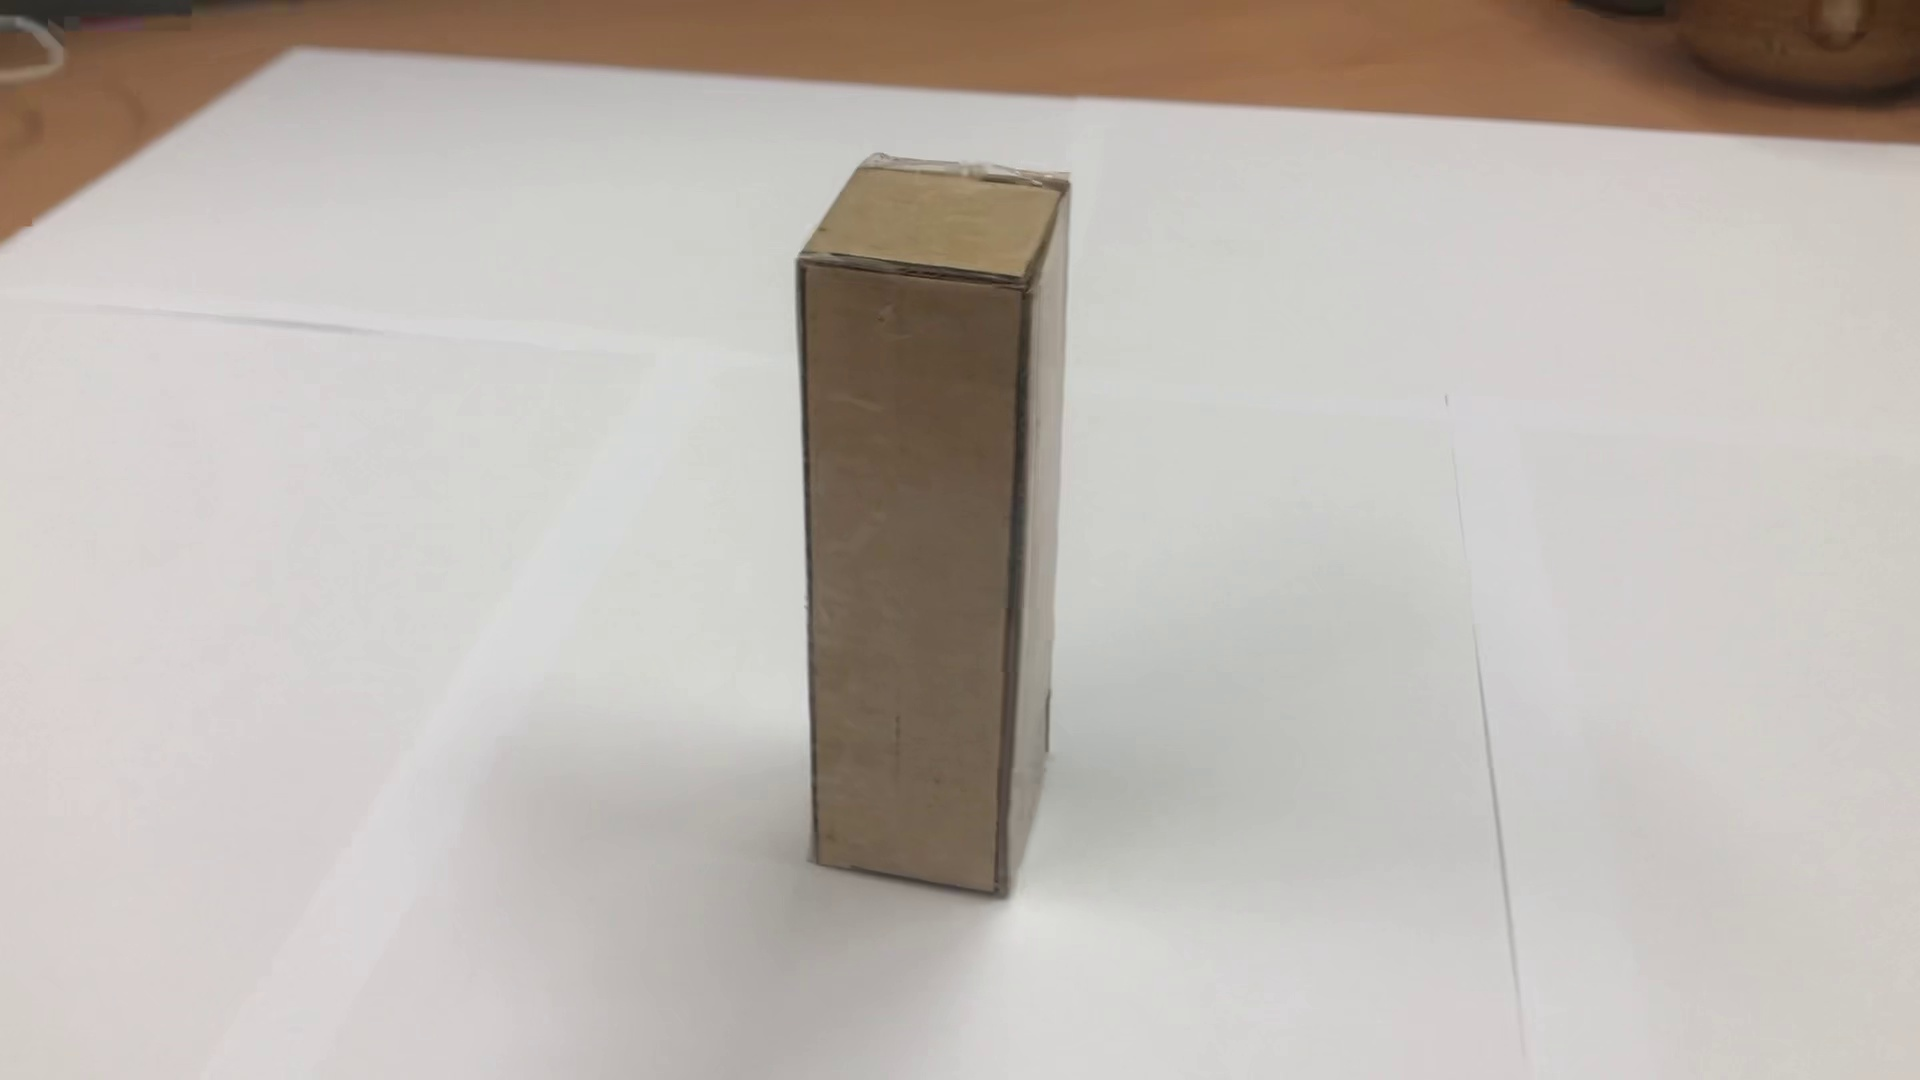box: (746, 142, 1084, 918)
